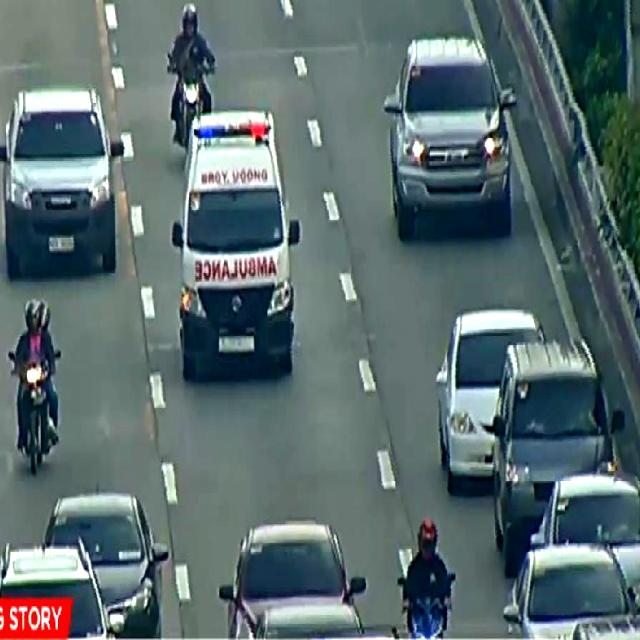emergency: (166, 107, 305, 385)
